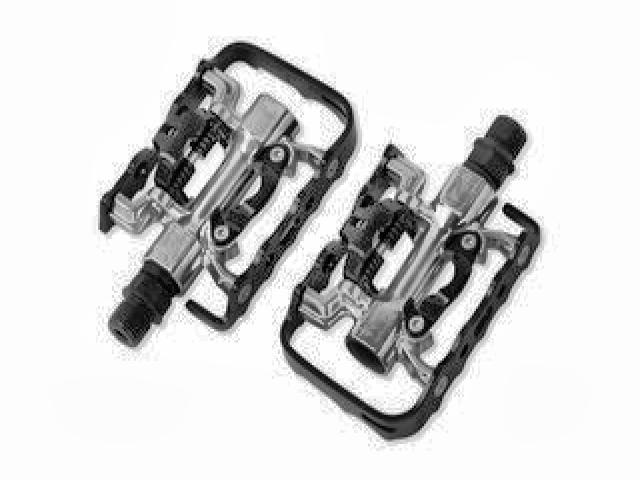pedal: (278, 109, 542, 442), (96, 40, 360, 347)
